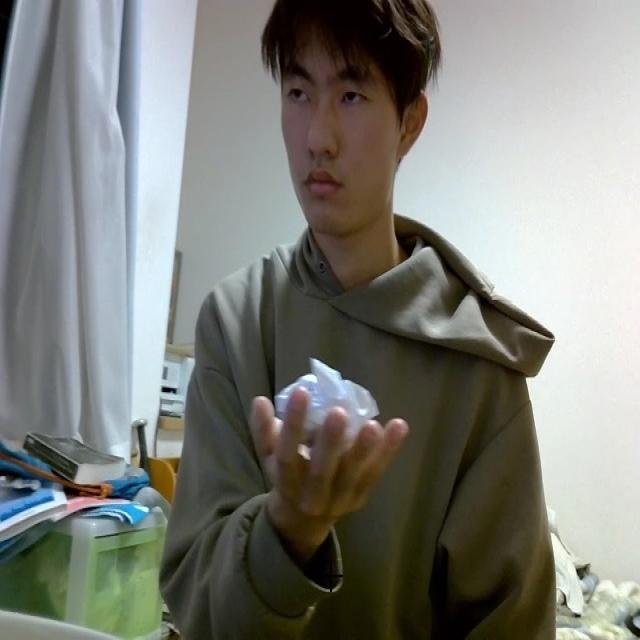paper: (273, 356, 379, 449)
